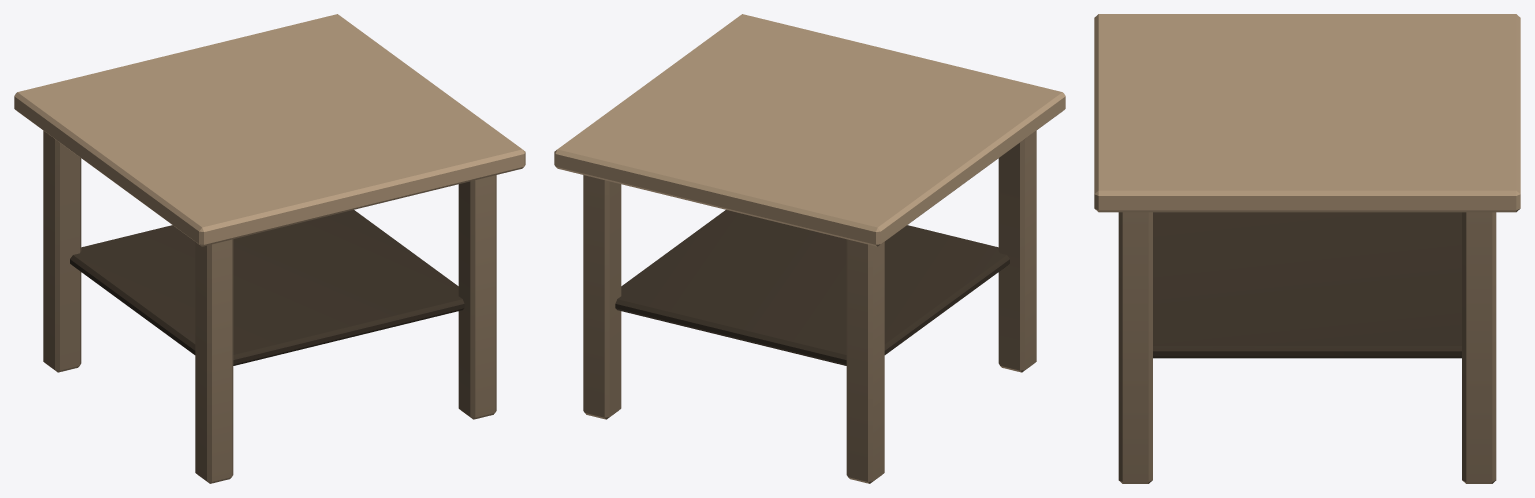
File: table_small.glb
3 views of the same model, side by side, from view 1: azimuth 30°, elevation 25°; view 2: azimuth 150°, elevation 25°; view 3: azimuth 270°, elevation 25° (orthographic). The views are drawn at different scales.
Parts seen in each view (by area): view 1: table_small; view 2: table_small; view 3: table_small.
Part boxes in pixels (left/top/right/bottom): table_small: left=14, top=14, right=525, bottom=483; table_small: left=554, top=14, right=1065, bottom=483; table_small: left=1094, top=14, right=1520, bottom=483.
Bounding box in the file's own units: 0.62 × 0.4875 × 0.62.
